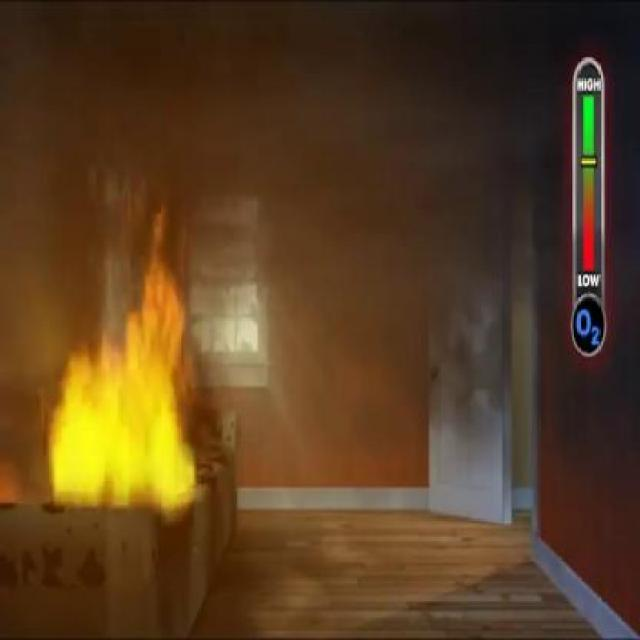fire: (56, 274, 186, 528)
smoke: (0, 1, 288, 174), (420, 10, 560, 359)
